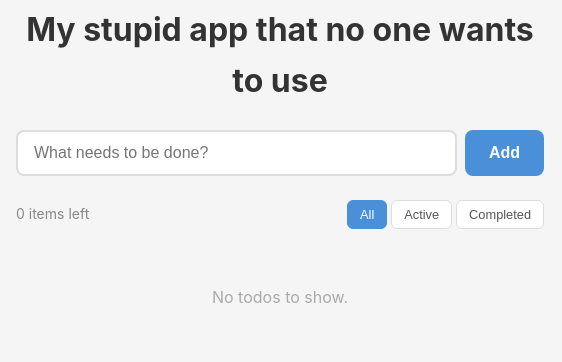
Todo App › deletes a todo
The image size is (562, 362).
Type "First" into the field with placeholder "What needs to be done?" at (236, 153), box [16,130,457,176]
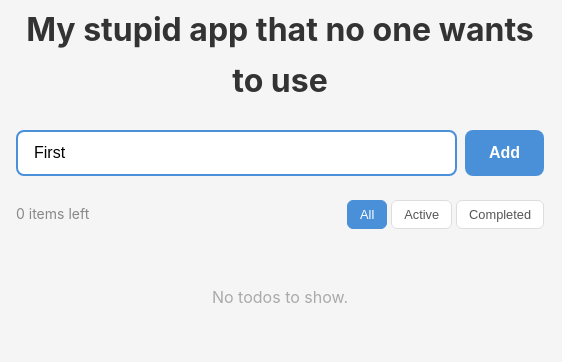
Click the button "Add" at (504, 153), box [465,130,544,176]
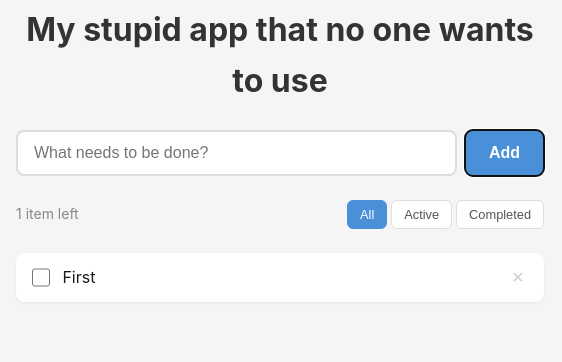
Type "Second" into the field with placeholder "What needs to be done?" at (236, 153), box [16,130,457,176]
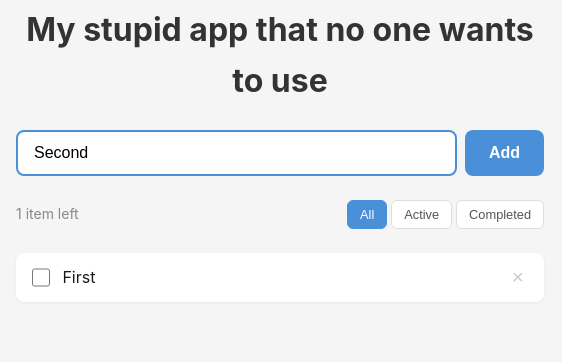
Click the button "Add" at (504, 153), box [465,130,544,176]
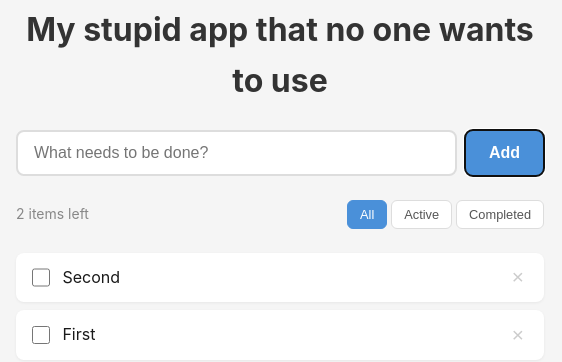
Click the button named "Delete \"First\"" at (518, 335), box [508,324,528,345]
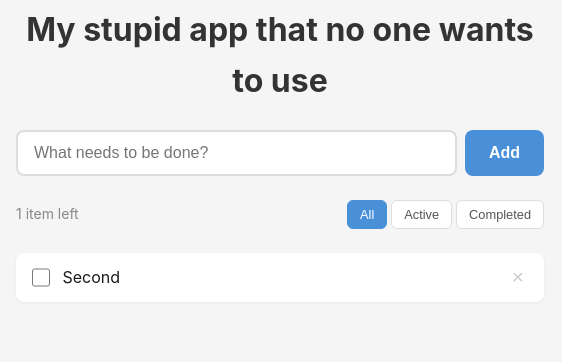
expect the text "Second" is shown: met, box [62,265,120,290]
expect the text "First" is gone: met
